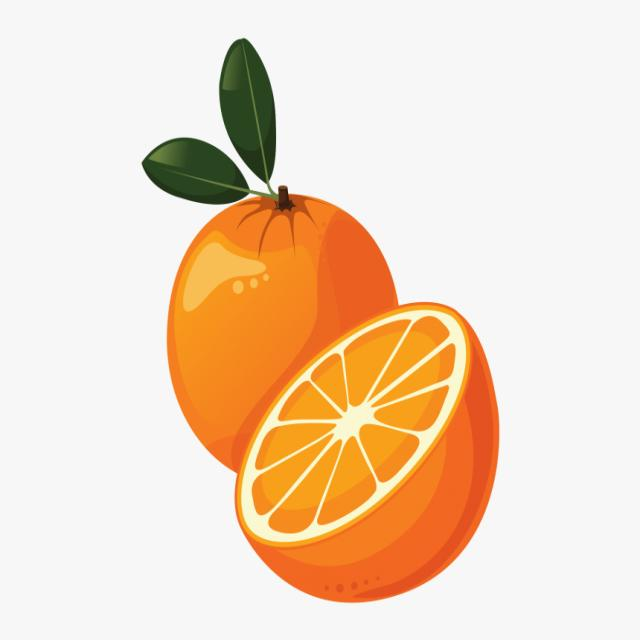orange: (147, 144, 510, 609)
